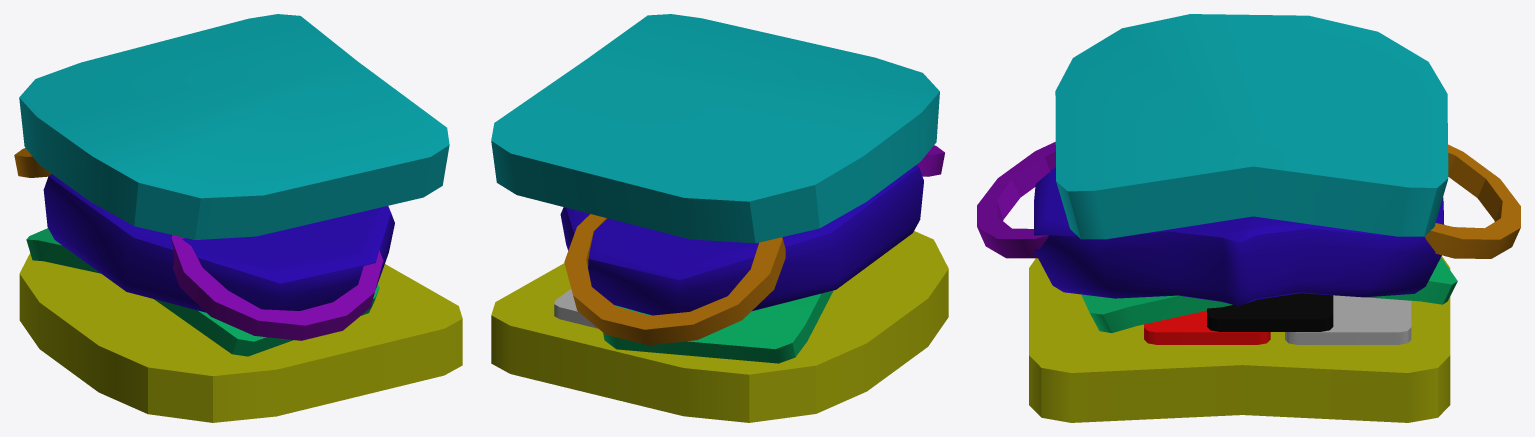
Rendered from SANDWICH.fbx.
The picture shows the model from 3 angles, left to right: view 1: azimuth 30°, elevation 25°; view 2: azimuth 150°, elevation 25°; view 3: azimuth 270°, elevation 25°; orthographic projection. The views are drawn at different scales.
Visible parts, largest first — view 1: polySurface6, polySurface2, pCylinder7, polySurface8, polySurface4, polySurface1; view 2: polySurface6, polySurface2, pCylinder7, polySurface1, polySurface4, polySurface9, polySurface8; view 3: polySurface6, polySurface2, pCylinder7, polySurface1, polySurface4, polySurface8, polySurface9, polySurface3, polySurface5.
Boxes of the visible parts, x1,y1,x2,y2 form: polySurface6: (19, 14, 449, 239); polySurface2: (19, 253, 462, 422); pCylinder7: (43, 174, 394, 312); polySurface8: (171, 235, 383, 340); polySurface4: (26, 228, 379, 356); polySurface1: (14, 148, 51, 177); polySurface6: (491, 14, 939, 243); polySurface2: (491, 231, 948, 422); pCylinder7: (560, 165, 923, 315); polySurface1: (564, 214, 785, 345); polySurface4: (603, 290, 833, 363); polySurface9: (554, 289, 597, 328); polySurface8: (916, 145, 944, 176); polySurface6: (1055, 14, 1448, 239); polySurface2: (1029, 256, 1450, 422); pCylinder7: (1034, 167, 1444, 306); polySurface1: (1424, 144, 1520, 258); polySurface4: (1081, 257, 1457, 332); polySurface8: (977, 142, 1055, 258); polySurface9: (1285, 295, 1411, 344); polySurface3: (1207, 293, 1333, 331); polySurface5: (1144, 310, 1270, 344).
Bounding box in the file's own units: 1 × 0.7161 × 1.42.
